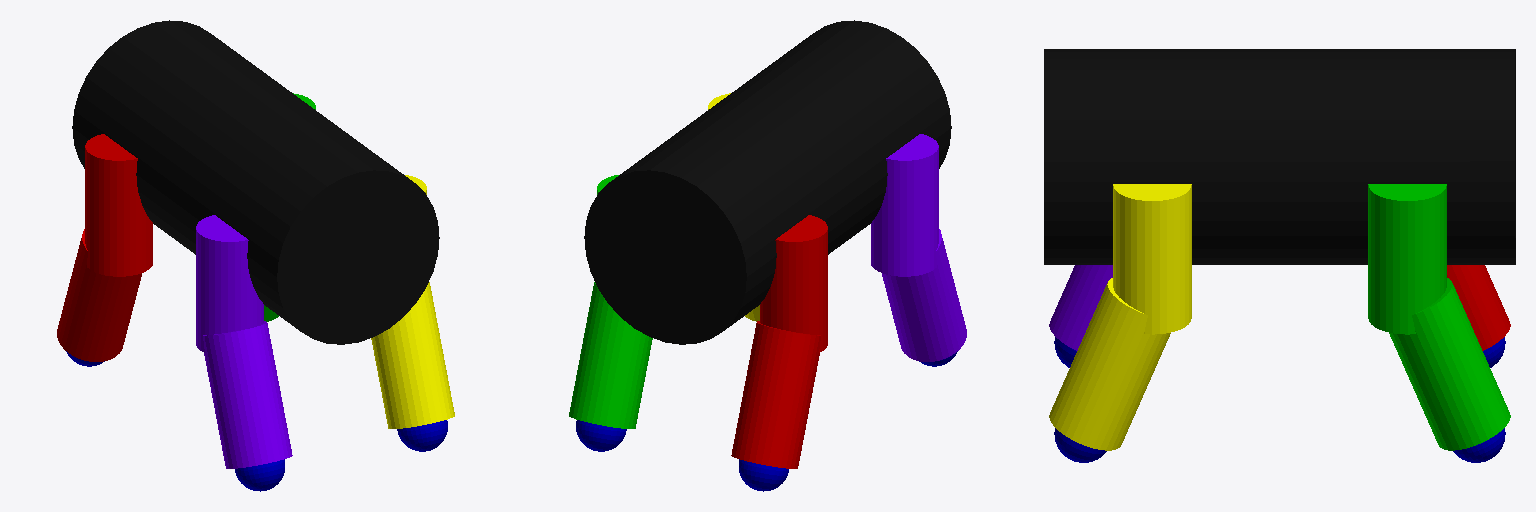
URDF robot description (Aibo):
<?xml version="1.0"?>
<robot name="Aibo" static="0">

  <gazebo reference="">
    <static>False</static>
    <selfCollide>False</selfCollide>
  </gazebo>

  <link name="base_link" >
      <inertial>
	<mass value="1"/>
        <inertia ixx='1' ixy='0' ixz='0' iyy='1' iyz='0' izz='1'/>
      </inertial>
      <collision name="geom">
        <geometry>
         <cylinder radius="0.055" length="0.240"/>
        </geometry>
	<origin xyz="0.0 0 0" rpy="0 1.5707 1.5707"/>
      </collision>
      <visual name="visual">
        <geometry>
          <cylinder radius="0.055" length="0.240"/>
        </geometry>
	<material name="black">
          <color rgba="0.1 0.1 0.1 1"/>
        </material>
	<origin xyz="0.0 0 0" rpy="0 1.5707 1.5707"/>
      </visual>
    </link>


<!-- S'ha de pensar que l'origen de l'articulacio es en referencia al pare d'aquesta, despres si es vol que l'articulacio no estigui en el centre del link s'ha de moure el visual -->

<!-- Part superior, primer l'esfera per l'articulacio per fer el gir en l'eix y, despres el cilindre que rotara al voltant de l'eix x -->

<!--Eix y-->

  <link name="RF_up_leg_rot_y" >
      <collision name="geom">
        <geometry>
          <sphere radius="0.005"/>
        </geometry>
      </collision>
   
      <visual name="visual">
        <geometry>
          <sphere radius="0.005"/>
        </geometry>
	<material name="green">
          <color rgba="0 0.8 0 1"/>
        </material>
      </visual>
      <inertial>
	<mass value="0.1"/>
        <inertia ixx='1' ixy='0' ixz='0' iyy='1' iyz='0' izz='1'/>
      </inertial>
    </link>

  <link name="LF_up_leg_rot_y" >
      <collision name="geom">
        <geometry>
          <sphere radius="0.005"/>
        </geometry>
      </collision>
   
      <visual name="visual">
        <geometry>
          <sphere radius="0.005"/>
        </geometry>
	<material name="red">
          <color rgba="0.8 0 0 1"/>
        </material>
      </visual>
      <inertial>
	<mass value="0.1"/>
        <inertia ixx='1' ixy='0' ixz='0' iyy='1' iyz='0' izz='1'/>
      </inertial>
    </link>

  <link name="RB_up_leg_rot_y" >
      <collision name="geom">
        <geometry>
          <sphere radius="0.005"/>
        </geometry>
      </collision>
   
      <visual name="visual">
        <geometry>
          <sphere radius="0.005"/>
        </geometry>
	<material name="yellow">
          <color rgba="1 1 0 1"/>
        </material>
      </visual>
      <inertial>
	<mass value="0.1"/>
        <inertia ixx='1' ixy='0' ixz='0' iyy='1' iyz='0' izz='1'/>
      </inertial>
    </link>

  <link name="LB_up_leg_rot_y" >
      <collision name="geom">
        <geometry>
          <sphere radius="0.005"/>
        </geometry>
      </collision>
   
      <visual name="visual">
        <geometry>
          <sphere radius="0.005"/>
        </geometry>
	<material name="purple">
          <color rgba="0.5 0 1 1"/>
	</material>
      </visual>
      <inertial>
	<mass value="0.1"/>
        <inertia ixx='1' ixy='0' ixz='0' iyy='1' iyz='0' izz='1'/>
      </inertial>
    </link>


<!--Eix x-->

  <link name="RF_up_leg_rot_x" >
      <collision name="geom">
        <geometry>
          <cylinder radius="0.020" length="0.075"/>
        </geometry>
      </collision>
   
      <visual name="visual">
        <geometry>
          <cylinder radius="0.020" length="0.075"/>
        </geometry>
	<material name="green"/>
      </visual>
      <inertial>
	<mass value="0.1"/>
        <inertia ixx='1' ixy='0' ixz='0' iyy='1' iyz='0' izz='1'/>
      </inertial>
    </link>


  <link name="LF_up_leg_rot_x" >
      <collision name="geom">
        <geometry>
          <cylinder radius="0.020" length="0.075"/>
        </geometry>
      </collision>
   
      <visual name="visual">	
        <geometry>
          <cylinder radius="0.020" length="0.075"/>
        </geometry>
	<material name="red"/>
      </visual>
      <inertial>
	<mass value="0.1"/>
        <inertia ixx='1' ixy='0' ixz='0' iyy='1' iyz='0' izz='1'/>
      </inertial>
    </link>


  <link name="RB_up_leg_rot_x" >
      <collision name="geom">
        <geometry>
          <cylinder radius="0.020" length="0.075"/>
        </geometry>
      </collision>
   
      <visual name="visual">
        <geometry>
          <cylinder radius="0.020" length="0.075"/>
        </geometry>
	<material name="yellow"/>
      </visual>
      <inertial>
	<mass value="0.1"/>
        <inertia ixx='1' ixy='0' ixz='0' iyy='1' iyz='0' izz='1'/>
      </inertial>
    </link>


  <link name="LB_up_leg_rot_x" >
      <collision name="geom">
        <geometry>
          <cylinder radius="0.020" length="0.075"/>
        </geometry>
      </collision> 
      <visual name="visual">
        <geometry>
          <cylinder radius="0.020" length="0.075"/>
        </geometry>
	<material name="purple"/>
      </visual>
      <inertial>
	<mass value="0.1"/>
        <inertia ixx='1' ixy='0' ixz='0' iyy='1' iyz='0' izz='1'/>
      </inertial>
    </link>



<!--Part inferior de la pota, amb rotacio al voltant de l'eix x-->

  <link name="RF_down_leg" >
      <collision name="geom">
	<origin xyz="0 0 -0.0275" rpy="0 0 0"/>
        <geometry>
          <cylinder radius="0.020" length="0.080"/>
        </geometry>
      </collision>
   
      <visual name="visual">
	<origin xyz="0 0 -0.0275" rpy="0 0 0"/>
        <geometry>
          <cylinder radius="0.020" length="0.080"/>
        </geometry>
	<material name="green"/>
      </visual>
      <inertial>
	<mass value="0.1"/>
        <inertia ixx='1' ixy='0' ixz='0' iyy='1' iyz='0' izz='1'/>
      </inertial>
    </link>


  <link name="LF_down_leg" >
      <collision name="geom">
	<origin xyz="0 0 -0.0275" rpy="0 0 0"/>
        <geometry>
          <cylinder radius="0.020" length="0.080"/>
        </geometry>
      </collision>
   
      <visual name="visual">
	<origin xyz="0 0 -0.0275" rpy="0 0 0"/>
        <geometry>
          <cylinder radius="0.020" length="0.080"/>
        </geometry>
	<material name="red"/>
      </visual>
      <inertial>
	<mass value="0.1"/>
        <inertia ixx='1' ixy='0' ixz='0' iyy='1' iyz='0' izz='1'/>
      </inertial>
    </link>


  <link name="RB_down_leg" >
      <collision name="geom">
	<origin xyz="0 0 -0.0275" rpy="0 0 0"/>
        <geometry>
          <cylinder radius="0.020" length="0.080"/>
        </geometry>
      </collision>
   
      <visual name="visual">
	<origin xyz="0 0 -0.0275" rpy="0 0 0"/>
        <geometry>
          <cylinder radius="0.020" length="0.080"/>
        </geometry>
	<material name="yellow"/>
      </visual>
      <inertial>
	<mass value="0.1"/>
        <inertia ixx='1' ixy='0' ixz='0' iyy='1' iyz='0' izz='1'/>
      </inertial>
    </link>


  <link name="LB_down_leg" >
      <collision name="geom">
	<origin xyz="0 0 -0.0275" rpy="0 0 0"/>
        <geometry>
          <cylinder radius="0.020" length="0.080"/>
        </geometry>
      </collision>
   
      <visual name="visual">
	<origin xyz="0 0 -0.0275" rpy="0 0 0"/>
        <geometry>
          <cylinder radius="0.020" length="0.080"/>
        </geometry>
	<material name="purple"/>
      </visual>
      <inertial>
	<mass value="0.1"/>
        <inertia ixx='1' ixy='0' ixz='0' iyy='1' iyz='0' izz='1'/>
      </inertial>
    </link>


<!--Potes-->

  <link name="RF_paw" >
      <collision name="geom">
        <geometry>
          <sphere radius="0.015"/>
        </geometry>
      </collision>
   
      <visual name="visual">
        <geometry>
          <sphere radius="0.015"/>
        </geometry>
	<material name="blue">
          <color rgba="0 0 0.8 1"/>
        </material>
      </visual>
      <inertial>
	<mass value="0.1"/>
        <inertia ixx='1' ixy='0' ixz='0' iyy='1' iyz='0' izz='1'/>
      </inertial>
    </link>


  <link name="LF_paw" >
      <collision name="geom">
        <geometry>
          <sphere radius="0.015"/>
        </geometry>
	<surface>
	  <friction>
            <ode mu='1.000000' mu2='1.000000'/>
          </friction>
	</surface>
      </collision>
      <visual name="visual">
        <geometry>
          <sphere radius="0.015"/>
        </geometry>
	<material name="blue"/>
      </visual>
      <inertial>
	<mass value="0.1"/>
        <inertia ixx='1' ixy='0' ixz='0' iyy='1' iyz='0' izz='1'/>
      </inertial>
    </link>


  <link name="RB_paw" >
      <collision name="geom">
        <geometry>
          <sphere radius="0.015"/>
        </geometry>
	<surface>
	  <friction>
            <ode mu='1.000000' mu2='1.000000'/>
          </friction>
	</surface>
      </collision>
      <visual name="visual">
        <geometry>
          <sphere radius="0.015"/>
        </geometry>
	<material name="blue"/>
      </visual>
      <inertial>
	<mass value="0.1"/>
        <inertia ixx='1' ixy='0' ixz='0' iyy='1' iyz='0' izz='1'/>
      </inertial>
    </link>


  <link name="LB_paw" >
      <collision name="geom">
        <geometry>
          <sphere radius="0.015"/>
        </geometry>
	<surface>
	  <friction>
            <ode mu='1.000000' mu2='1.000000'/>
          </friction>
	</surface>
      </collision>
      <visual name="visual">
        <geometry>
          <sphere radius="0.015"/>
        </geometry>
	<material name="blue"/>
      </visual>
      <inertial>
	<mass value="0.1"/>
        <inertia ixx='1' ixy='0' ixz='0' iyy='1' iyz='0' izz='1'/>
      </inertial>
    </link>


<!--Joints-->

<!-- Articulacio l'espatlla en revolucio de [-9,91] graus al voltant de eix y -->

<!-- Articulacio l'espatlla en revolucio de [-134,120] les dretes i [-120,134] les esquerres graus al voltant de eix x -->

<!-- Articulacio del genoll en revolucio de [-29,119] graus al voltant de eix x -->
<!-- Aquestes dades han estat extretes de la pagina de Gostai Urbi  -->

<!-- Pota esquerra frontal (ordenat per superior eix x, sup. eix y, inferior) -->

    <joint type="revolute" name="LF_up_leg_rot_x_joint">
      <origin xyz="0 0 -0.0275" rpy="0 0 0"/>
      <limit effort="1000.0" lower="-2.094" upper="2.3387" velocity="0.5"/> 
      <axis xyz="1 0 0"/>
      <parent link="LF_up_leg_rot_y"/>
      <child link="LF_up_leg_rot_x"/>
    </joint>

    <joint type="revolute" name="LF_up_leg_rot_y_joint">
      <origin xyz="-0.055 0.065 0" rpy="0 0 0"/>
      <limit effort="1000.0" lower="-0.15708" upper="1.58825" velocity="0.5"/> 
      <axis xyz="0 1 0"/>
      <parent link="base_link"/>
      <child link="LF_up_leg_rot_y"/>
    </joint>

    <joint type="revolute" name="LF_down_leg_joint">
      <limit effort="1000.0" lower="-0.506" upper="2.0768" velocity="0.5"/>
      <axis xyz="1 0 0"/>
      <origin xyz="0 0.009 -0.0375" rpy="0.38025 0 0"/>
      <parent link="LF_up_leg_rot_x"/>
      <child link="LF_down_leg"/>
    </joint>

<!-- Pota esquerra posterior (ordenat per superior eix x, sup. eix y, inferior) -->

    <joint type="revolute" name="LB_up_leg_rot_x_joint">
      <origin xyz="0 0 -0.0275" rpy="0 0 0"/>
      <limit effort="1000.0" lower="-2.094" upper="2.3387" velocity="0.5"/>
      <axis xyz="1 0 0"/>
      <parent link="LB_up_leg_rot_y"/>
      <child link="LB_up_leg_rot_x"/>
    </joint>

    <joint type="revolute" name="LB_up_leg_rot_y_joint">
      <origin xyz="-0.055 -0.065 0" rpy="0 0 0"/>
      <limit effort="1000.0" lower="-0.15708" upper="1.58825" velocity="0.5"/> 
      <axis xyz="0 1 0"/>
      <parent link="base_link"/>
      <child link="LB_up_leg_rot_y"/>
    </joint>

    <joint type="revolute" name="LB_down_leg_joint">
      <limit effort="1000.0" lower="-0.506" upper="2.0768" velocity="0.5"/>
      <axis xyz="1 0 0"/>
      <origin xyz="-0 -0.009 -0.0375" rpy="-0.38025 0 0"/>
      <parent link="LB_up_leg_rot_x"/>
      <child link="LB_down_leg"/>
    </joint>


<!-- Pota dreta frontal (ordenat per espatlla eix x, espatlla eix y, inferior) -->

    <joint type="revolute" name="RF_up_leg_rot_x_joint">
      <origin xyz="0 0 -0.0275" rpy="0 0 0"/>
      <limit effort="1000.0" lower="-2.3387" upper="2.094" velocity="0.5"/> 
      <axis xyz="1 0 0"/>
      <parent link="RF_up_leg_rot_y"/>
      <child link="RF_up_leg_rot_x"/>
    </joint>

    <joint type="revolute" name="RF_up_leg_rot_y_joint">
      <origin xyz="0.055 0.065 0" rpy="0 0 0"/>
      <limit effort="1000.0" lower="-1.58825" upper="0.15708" velocity="0.5"/> 
      <axis xyz="0 1 0"/>
      <parent link="base_link"/>
      <child link="RF_up_leg_rot_y"/>
    </joint>

    <joint type="revolute" name="RF_down_leg_joint">
      <limit effort="1000.0" lower="-0.506" upper="2.0768" velocity="0.5"/>
      <axis xyz="1 0 0"/>
      <origin xyz="0 0.009 -0.0375" rpy="0.38025 0 0"/>
      <parent link="RF_up_leg_rot_x"/>
      <child link="RF_down_leg"/>
    </joint>


<!-- Pota dreta posterior (ordenat per superior eix x, sup. eix y, inferior) -->

    <joint type="revolute" name="RB_up_leg_rot_x_joint">
      <origin xyz="0 0 -0.0275" rpy="0 0 0"/>
      <limit effort="1000.0" lower="-2.3387" upper="2.094" velocity="0.5"/>
      <axis xyz="1 0 0"/>
      <parent link="RB_up_leg_rot_y"/>
      <child link="RB_up_leg_rot_x"/>
    </joint>

    <joint type="revolute" name="RB_up_leg_rot_y_joint">
      <origin xyz="0.055 -0.065 0" rpy="0 0 0"/>
      <limit effort="1000.0" lower="-1.58825" upper="0.15708" velocity="0.5"/> 
      <axis xyz="0 1 0"/>
      <parent link="base_link"/>
      <child link="RB_up_leg_rot_y"/>
    </joint>

    <joint type="revolute" name="RB_down_leg_joint">
      <limit effort="1000.0" lower="-0.506" upper="2.0768" velocity="0.5"/>
      <axis xyz="1 0 0"/>
      <origin xyz="0 -0.009 -0.0375" rpy="-0.38025 0 0"/>
      <parent link="RB_up_leg_rot_x"/>
      <child link="RB_down_leg"/>
    </joint>





<!-- Els peus son fixes -->
    <joint type="fixed" name="RF_paw_joint">
      <origin xyz="0 0 -0.070" rpy="0 0 0"/>
      <parent link="RF_down_leg"/>
      <child link="RF_paw"/>
    </joint>

    <joint type="fixed" name="LF_paw_joint">
      <origin xyz="0 0 -0.070" rpy="0 0 0"/>
      <parent link="LF_down_leg"/>
      <child link="LF_paw"/>
    </joint>

    <joint type="fixed" name="RB_paw_joint">
      <origin xyz="0 0 -0.070" rpy="0 0 0"/>
      <parent link="RB_down_leg"/>
      <child link="RB_paw"/>
    </joint>

    <joint type="fixed" name="LB_paw_joint">
      <origin xyz="0 0 -0.070" rpy="0 0 0"/>
      <parent link="LB_down_leg"/>
      <child link="LB_paw"/>
    </joint>

  <gazebo reference="base_link">
    <material>Gazebo/FlatBlack</material>
  </gazebo>
  <gazebo reference="RF_up_leg_rot_y">
    <material>Gazebo/Green</material>
  </gazebo>
  <gazebo reference="RF_up_leg_rot_x">
    <material>Gazebo/Green</material>
  </gazebo>
  <gazebo reference="RF_down_leg">
    <material>Gazebo/Green</material>
  </gazebo>
  <gazebo reference="LF_up_leg_rot_y">
    <material>Gazebo/Red</material>
  </gazebo>
  <gazebo reference="LF_up_leg_rot_x">
    <material>Gazebo/Red</material>
  </gazebo>
  <gazebo reference="LF_down_leg">
    <material>Gazebo/Red</material>
  </gazebo>
  <gazebo reference="RB_up_leg_rot_y">
    <material>Gazebo/Yellow</material>
  </gazebo>
  <gazebo reference="RB_up_leg_rot_x">
    <material>Gazebo/Yellow</material>
  </gazebo>
  <gazebo reference="RB_down_leg">
    <material>Gazebo/Yellow</material>
  </gazebo>
  <gazebo reference="LB_up_leg_rot_y">
    <material>Gazebo/Purple</material>
  </gazebo>
  <gazebo reference="LB_up_leg_rot_x">
    <material>Gazebo/Purple</material>
  </gazebo>
  <gazebo reference="LB_down_leg">
    <material>Gazebo/Purple</material>
  </gazebo>
  <gazebo reference="RF_paw">
    <material>Gazebo/Blue</material>
  </gazebo>
  <gazebo reference="LF_paw">
    <material>Gazebo/Blue</material>
  </gazebo>
  <gazebo reference="RB_paw">
    <material>Gazebo/Blue</material>
  </gazebo>
  <gazebo reference="LB_paw">
    <material>Gazebo/Blue</material>
  </gazebo>
</robot>

--- Facts derived from the render (not from the file) ---
3 views of the same robot in one strip: view 1: azimuth 30°, elevation 25°; view 2: azimuth 150°, elevation 25°; view 3: azimuth 270°, elevation 25° (orthographic).
Model Aibo with 17 links and 16 joints (12 revolute, 4 fixed), rooted at base_link, posed all joints at 0.
Links seen in each view (by area): view 1: base_link, LB_down_leg, LF_up_leg_rot_x, RB_down_leg, LB_up_leg_rot_x, LF_down_leg, RB_paw, LB_paw; view 2: base_link, LF_down_leg, LB_up_leg_rot_x, RF_down_leg, LF_up_leg_rot_x, LB_down_leg, RF_paw, LF_paw; view 3: base_link, RF_down_leg, RB_down_leg, RF_up_leg_rot_x, RB_up_leg_rot_x, LF_down_leg, LB_down_leg, RF_paw, RB_paw.
Link boxes in pixels (box(x1,y1,x2,y2)): base_link: box(72, 20, 439, 344); LB_down_leg: box(203, 321, 292, 468); LF_up_leg_rot_x: box(85, 134, 152, 276); RB_down_leg: box(371, 282, 454, 428); LB_up_leg_rot_x: box(196, 215, 263, 352); LF_down_leg: box(57, 229, 141, 361); RB_paw: box(397, 420, 447, 451); LB_paw: box(235, 459, 284, 491); base_link: box(584, 20, 951, 344); LF_down_leg: box(731, 321, 820, 468); LB_up_leg_rot_x: box(871, 134, 938, 276); RF_down_leg: box(569, 282, 652, 428); LF_up_leg_rot_x: box(760, 215, 827, 352); LB_down_leg: box(882, 229, 966, 361); RF_paw: box(576, 420, 626, 451); LF_paw: box(739, 459, 788, 491); base_link: box(1044, 49, 1515, 264); RF_down_leg: box(1389, 278, 1510, 450); RB_down_leg: box(1049, 278, 1170, 450); RF_up_leg_rot_x: box(1368, 184, 1446, 334); RB_up_leg_rot_x: box(1113, 184, 1191, 334); LF_down_leg: box(1447, 265, 1510, 350); LB_down_leg: box(1049, 265, 1112, 350); RF_paw: box(1453, 428, 1505, 462); RB_paw: box(1054, 428, 1106, 462).
Size in the robot's own frame: 0.15 by 0.24 by 0.2 metres.
Geometry: primitives only (box / cylinder / sphere), no mesh files.